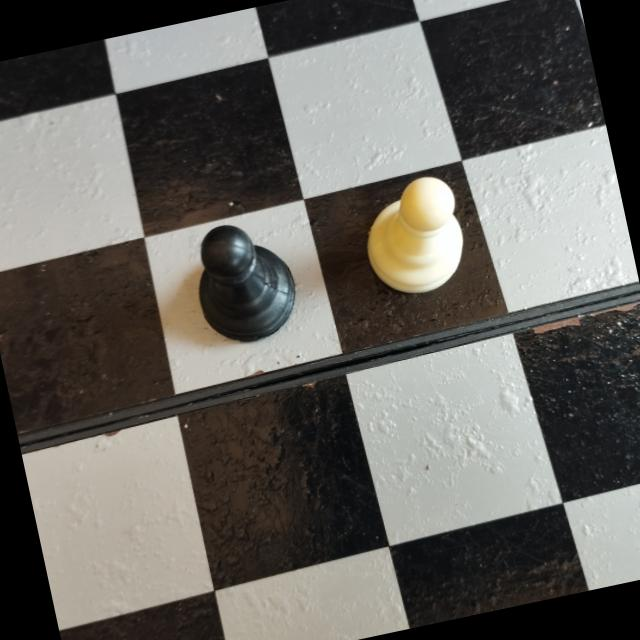Black Pawn: (181, 209, 309, 356)
White Pawn: (350, 166, 479, 312)
